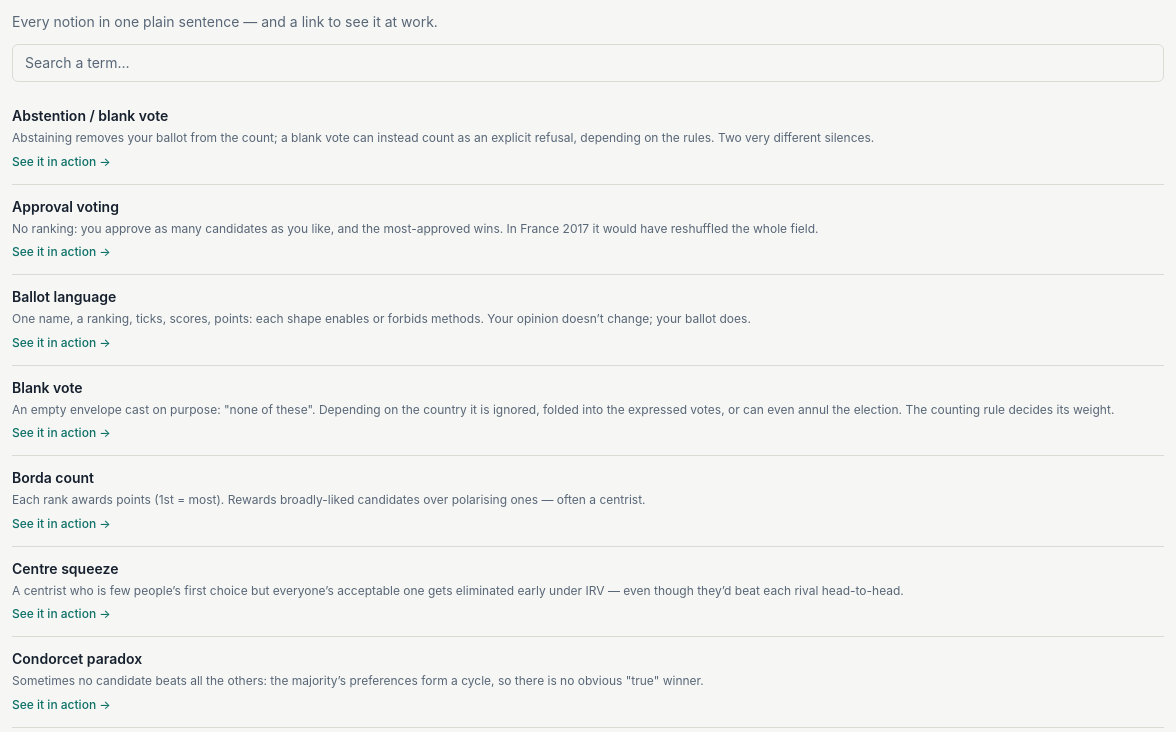
Test case: LexiquePanel › shows an empty state when nothing matches
Step 1. Type "zzzzz" into the search field with test id "lexique-search" → (588, 63), box [12,44,1164,82]
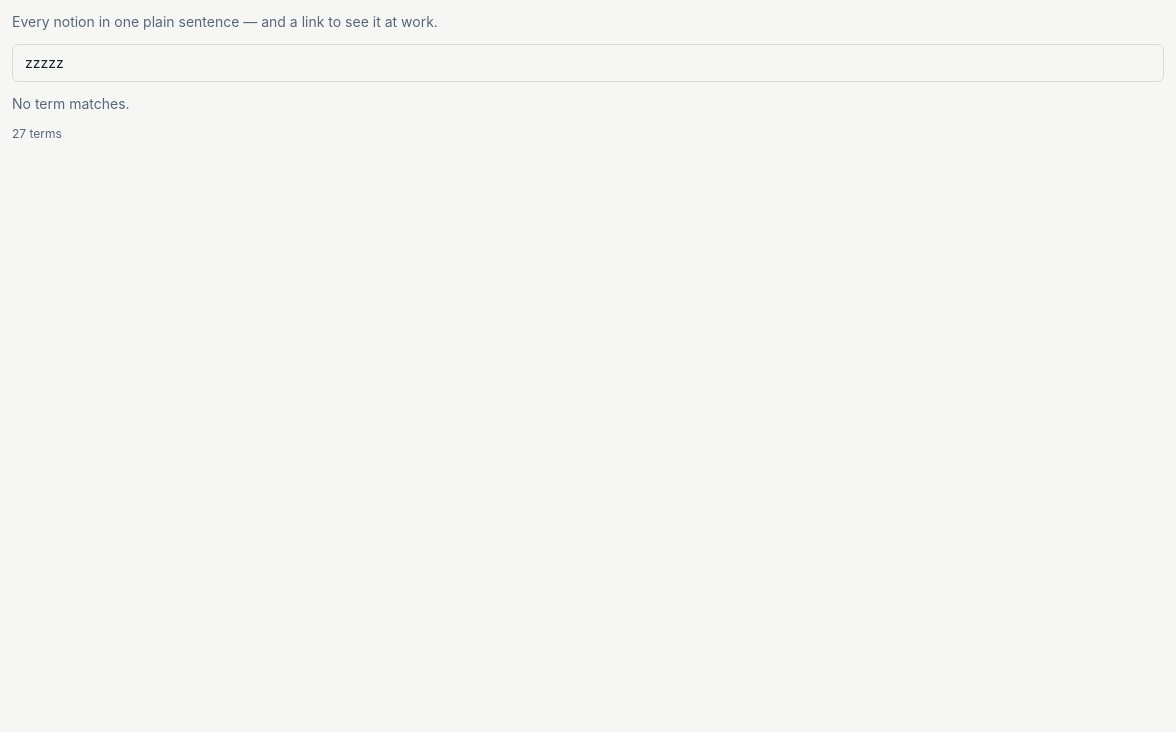
Result: the element with test id "lexique-panel" shows "No term matches." at [12,95,130,112]
